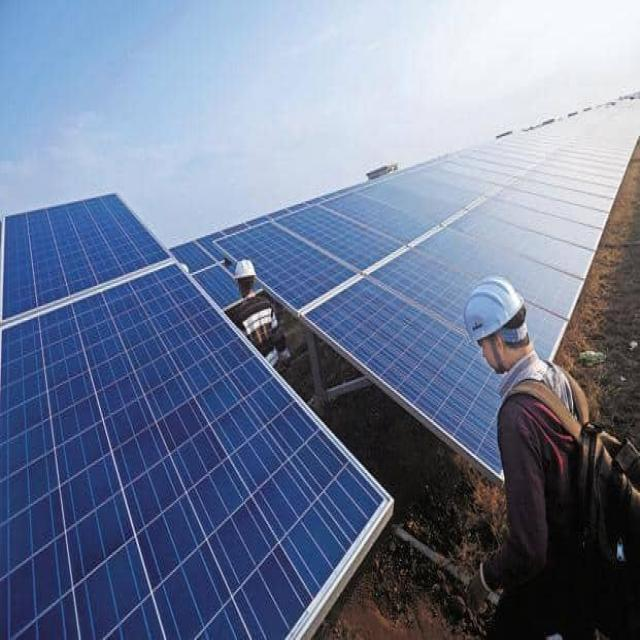clean-solar-panel: (174, 101, 640, 477), (0, 263, 391, 638)
